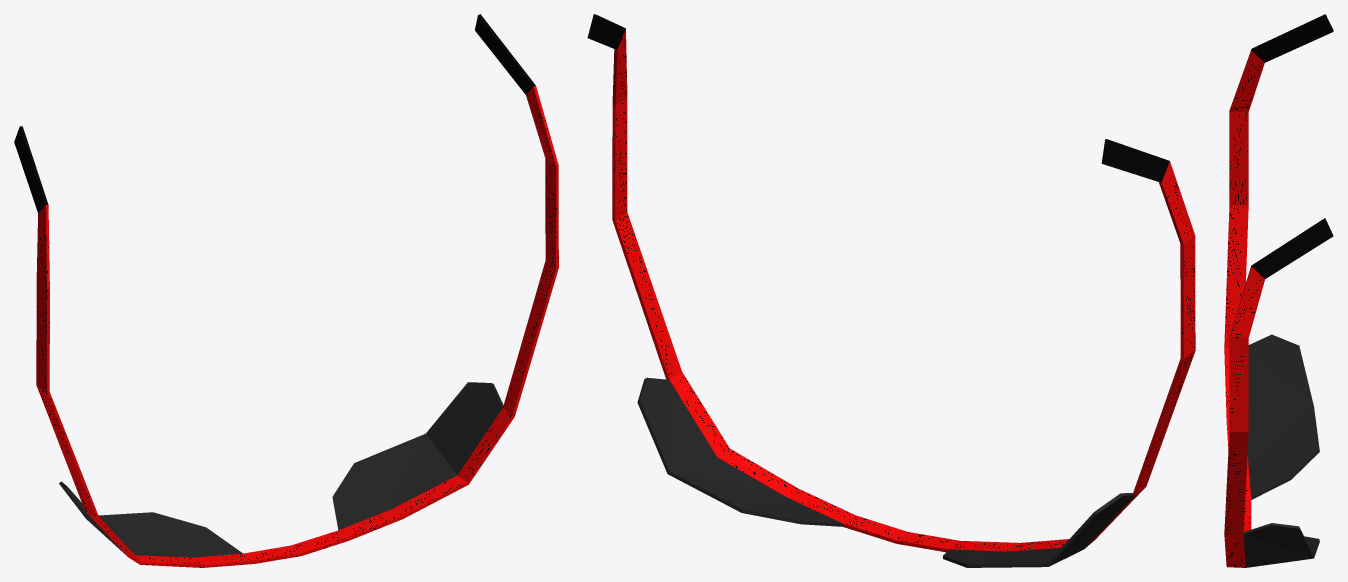
File: FastGlasses.glb
The picture shows the model from 3 angles, left to right: view 1: azimuth 30°, elevation 25°; view 2: azimuth 150°, elevation 25°; view 3: azimuth 270°, elevation 25°; orthographic projection. The views are drawn at different scales.
Visible parts, largest first — view 1: FastGlasses; view 2: FastGlasses; view 3: FastGlasses.
Part boxes in pixels (bbox=[...]): FastGlasses: bbox=[14, 14, 558, 567]; FastGlasses: bbox=[587, 14, 1195, 567]; FastGlasses: bbox=[1224, 14, 1333, 567].
Size of the model in its own units: 0.1843 by 0.1542 by 0.0374.
1 material, 1 textured.
